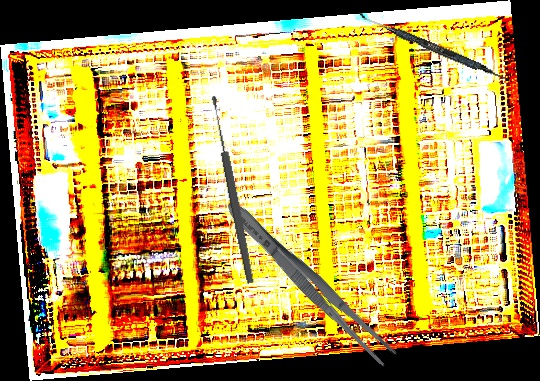Dressing Forceps: (218, 193, 402, 372)
Spatula Surgical: (355, 11, 515, 85)
Surgical Spoon: (208, 94, 257, 285)
